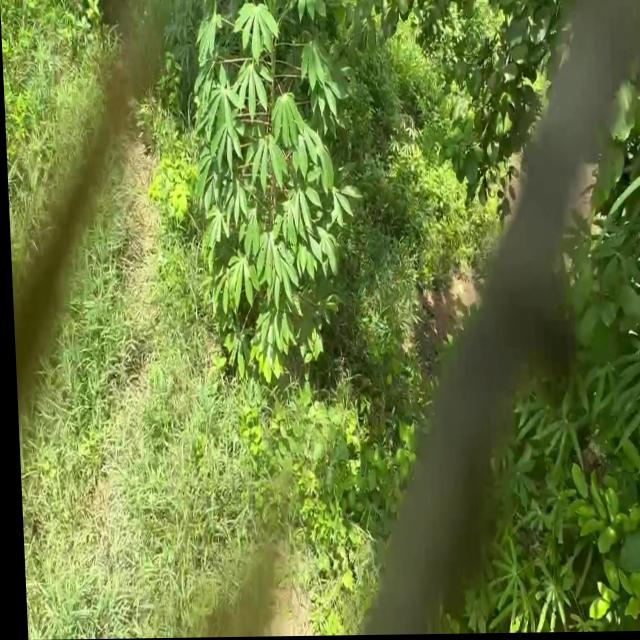Maleza: (104, 339, 318, 509), (30, 505, 298, 625), (246, 417, 382, 633), (44, 243, 186, 390), (405, 17, 522, 154), (394, 127, 490, 277), (127, 122, 220, 247), (20, 29, 85, 189), (586, 519, 640, 629), (377, 265, 427, 381), (565, 467, 638, 540)
